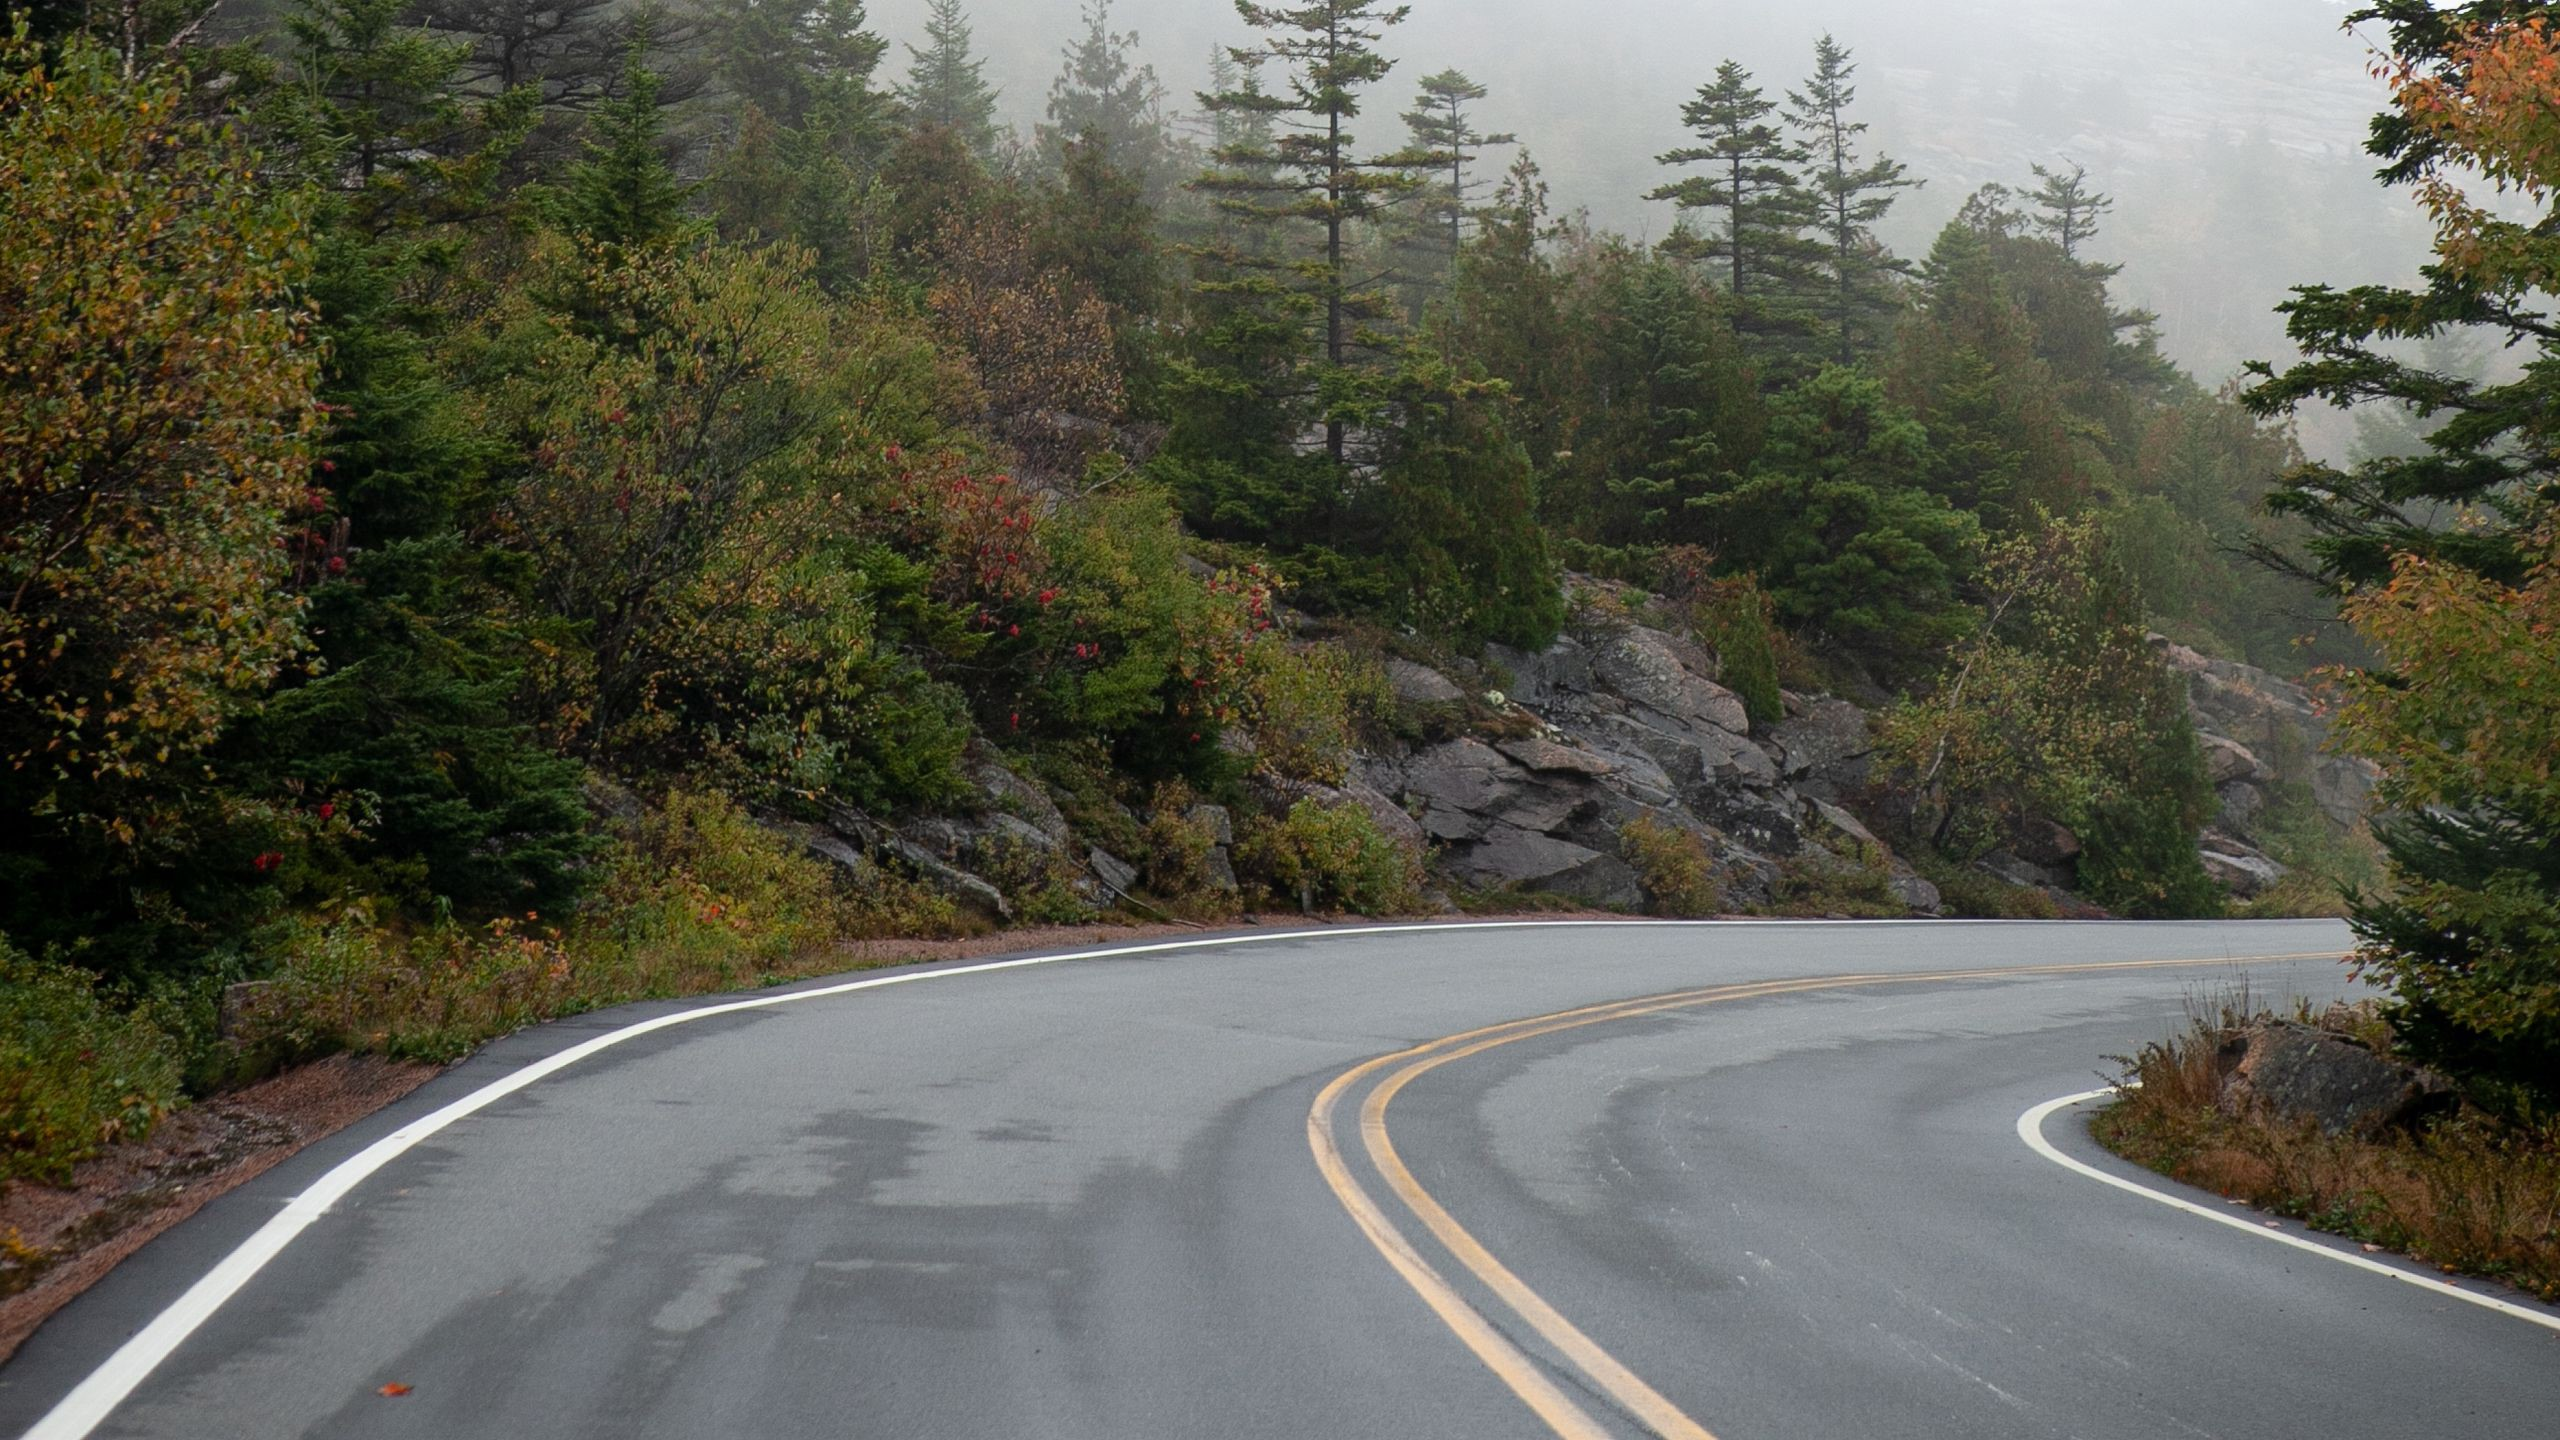rightTrun: (1053, 826, 1936, 1440)
